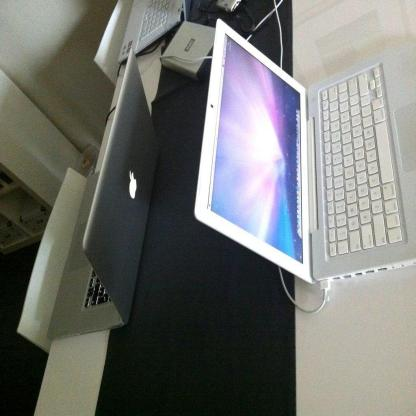board: (193, 16, 416, 284), (46, 47, 158, 338), (118, 0, 192, 62)
